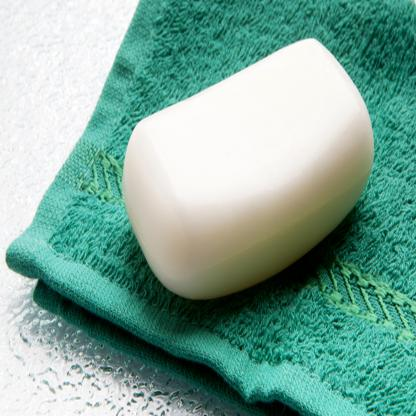soap: (116, 19, 383, 314)
